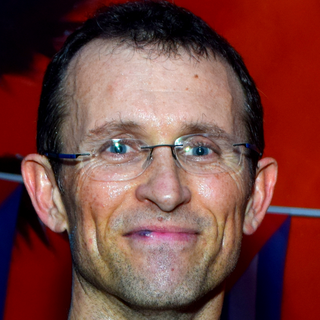eye: (100, 136, 144, 162), (178, 139, 222, 164)
